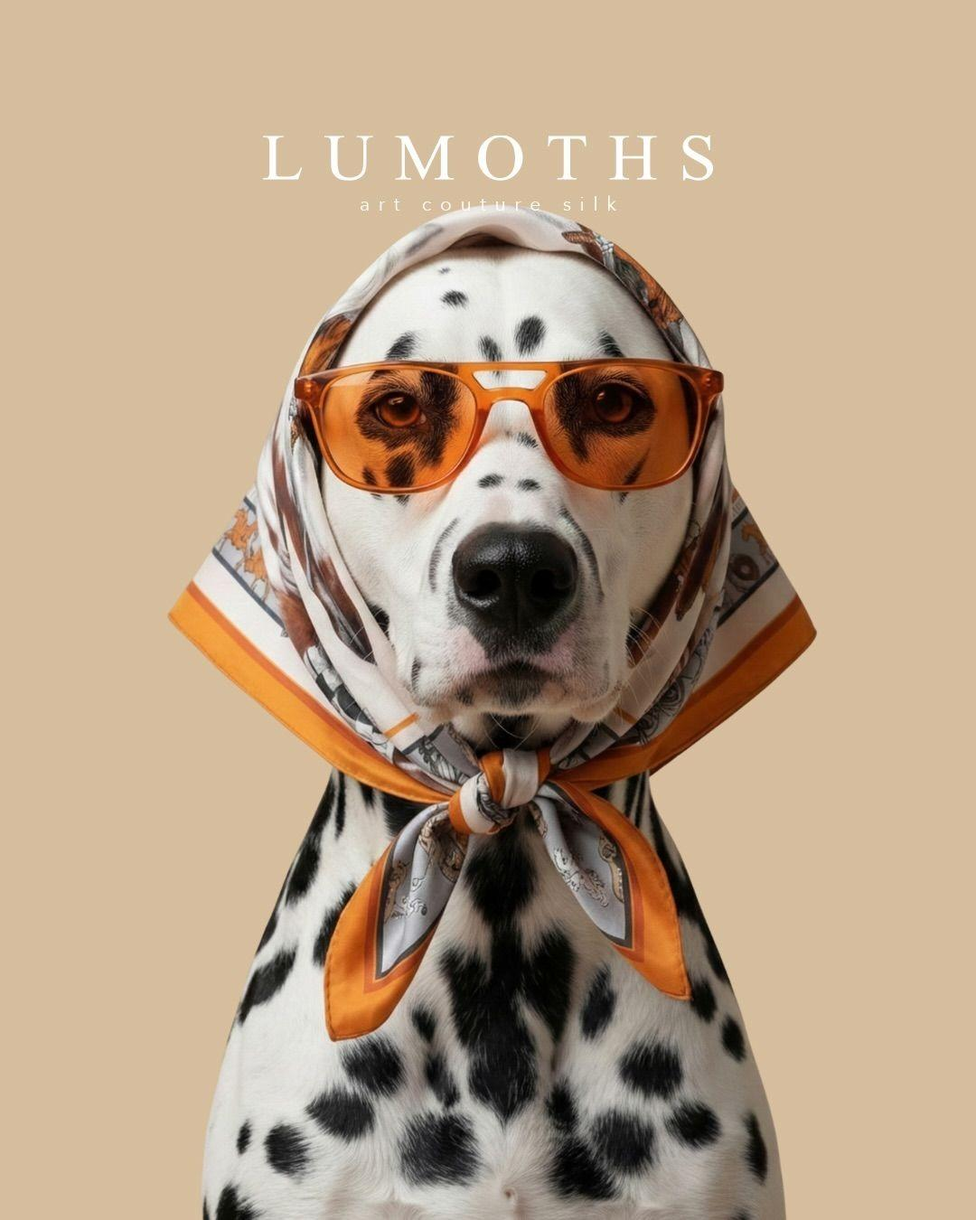adult_dog: (198, 211, 789, 1220)
